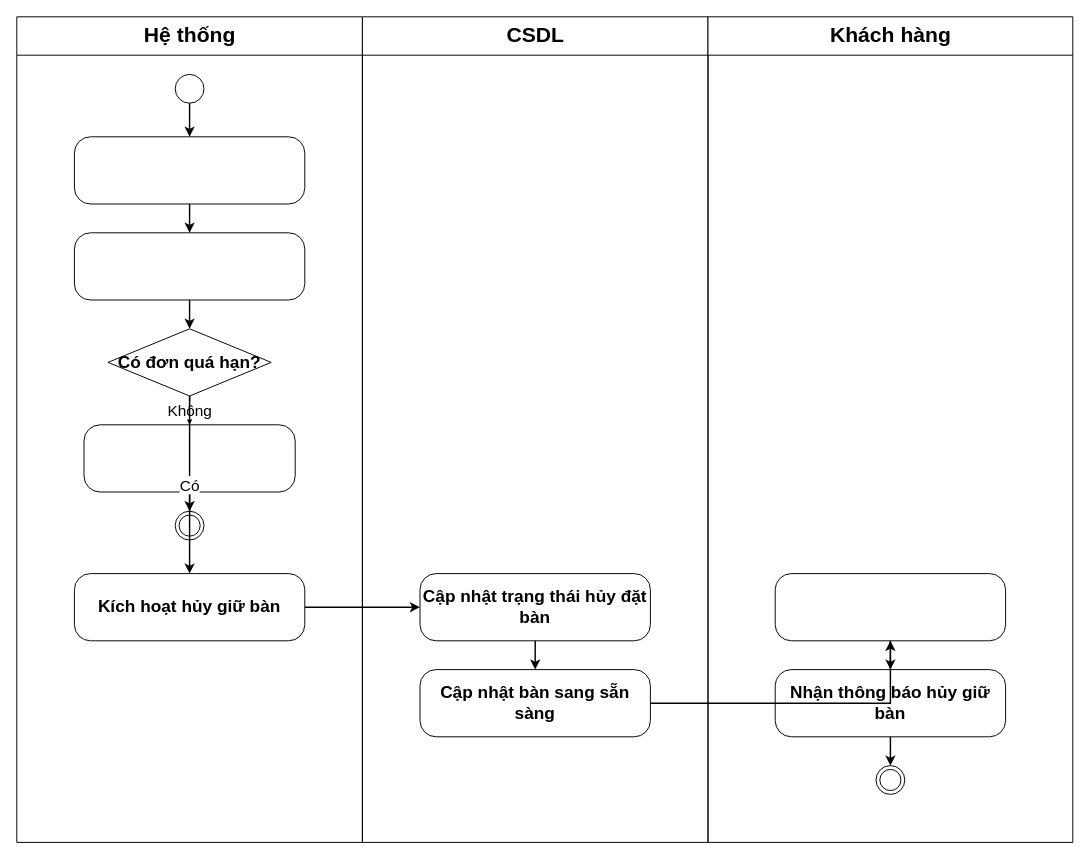
The diagram is 1090 pixels wide and 859 high, and some of its shapes have lost their labels. Each missing label, with the centre of its shape:
"Gửi thông báo hết hạn đặt cọc" goes at [890,607].
"Kiểm tra đơn quá hạn 15 phút" goes at [189,266].
"Kết thúc chu kỳ quét" goes at [189,458].
"Quét định kỳ mỗi 60 giây" goes at [189,170].
